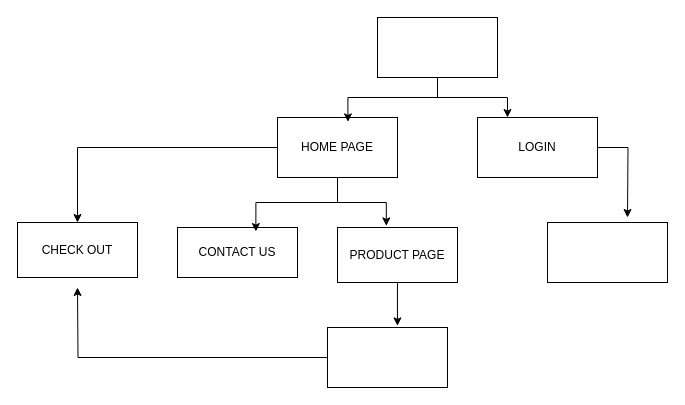
The diagram is 685 pixels wide and 405 high, and some of its shapes have lost their labels. The centre of each missing label's shape, as x and y in pixels:
"ADD TO CART" goes at (x=387, y=357).
"NEW USER" goes at (x=437, y=47).
"REGISTER" goes at (x=607, y=252).
